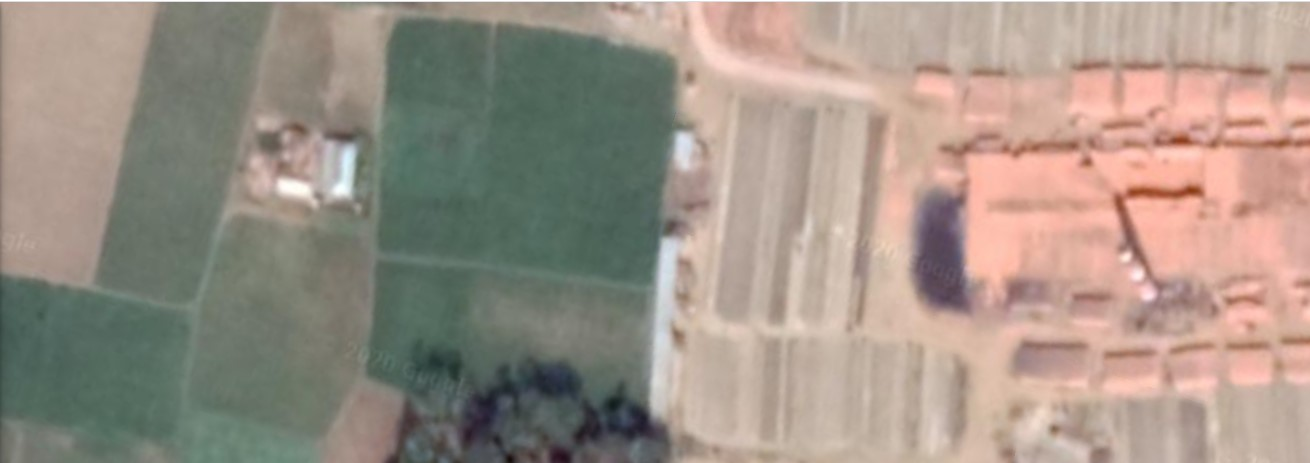kiln: (958, 99, 1295, 371)
